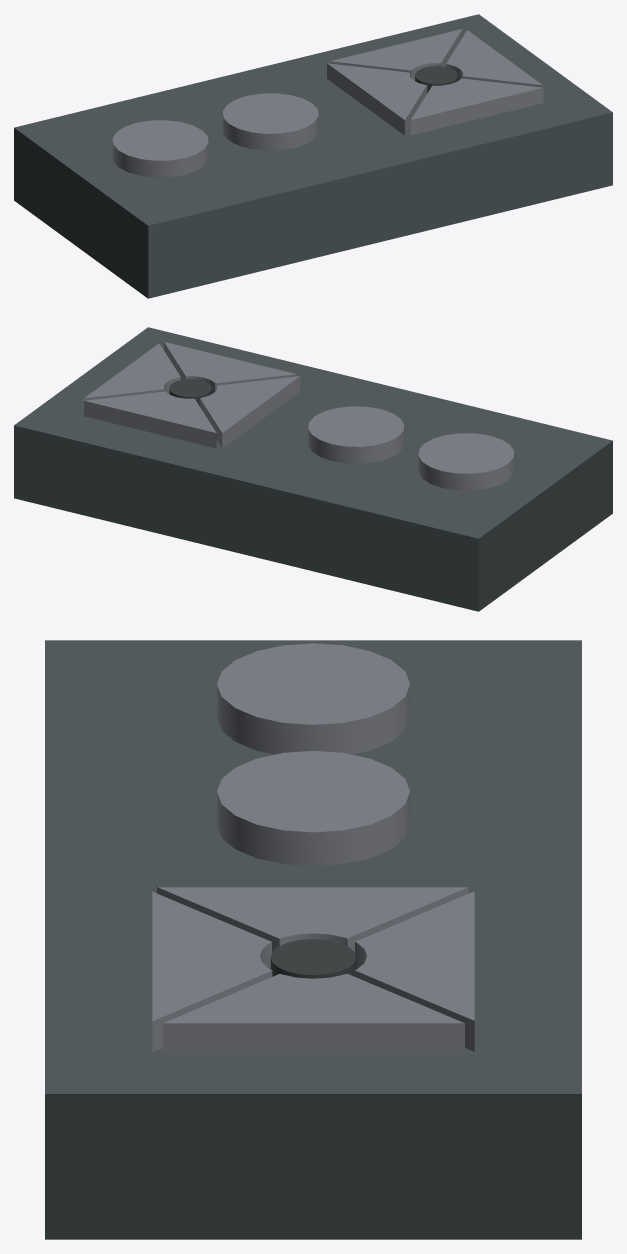
The model's file is Control.obj.
3 renders of one model, top to bottom at view 1: azimuth 30°, elevation 25°; view 2: azimuth 150°, elevation 25°; view 3: azimuth 270°, elevation 25°, orthographic. The views are drawn at different scales.
Visible parts, largest first — view 1: polySurface12; view 2: polySurface12; view 3: polySurface12.
Part boxes in pixels (x1,y1,x2,y2): polySurface12: [14, 14, 612, 298]; polySurface12: [14, 327, 612, 611]; polySurface12: [45, 640, 581, 1239].
Bounding box in the file's own units: 0.4712 × 0.087 × 0.2356.
Materials: 3 (3 with a texture image).
